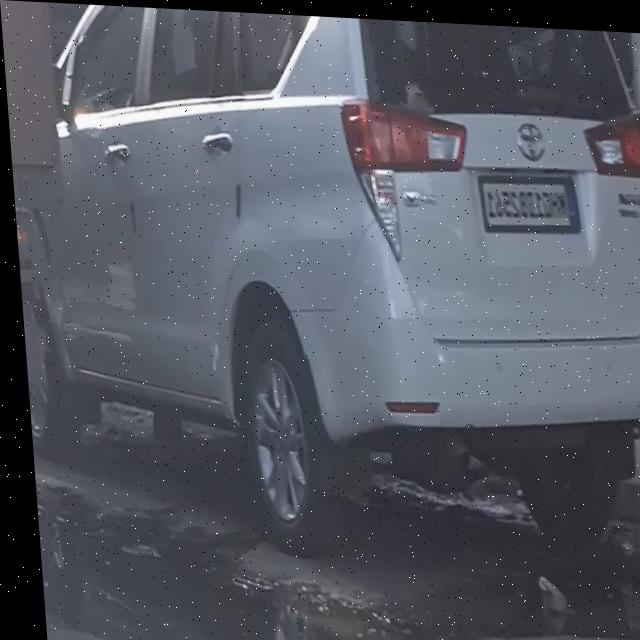plate: (476, 166, 579, 230)
